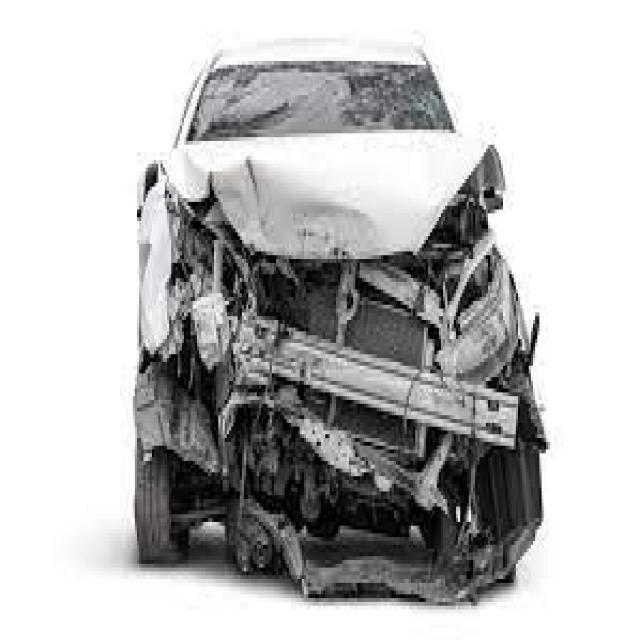severe: (128, 86, 538, 613)
